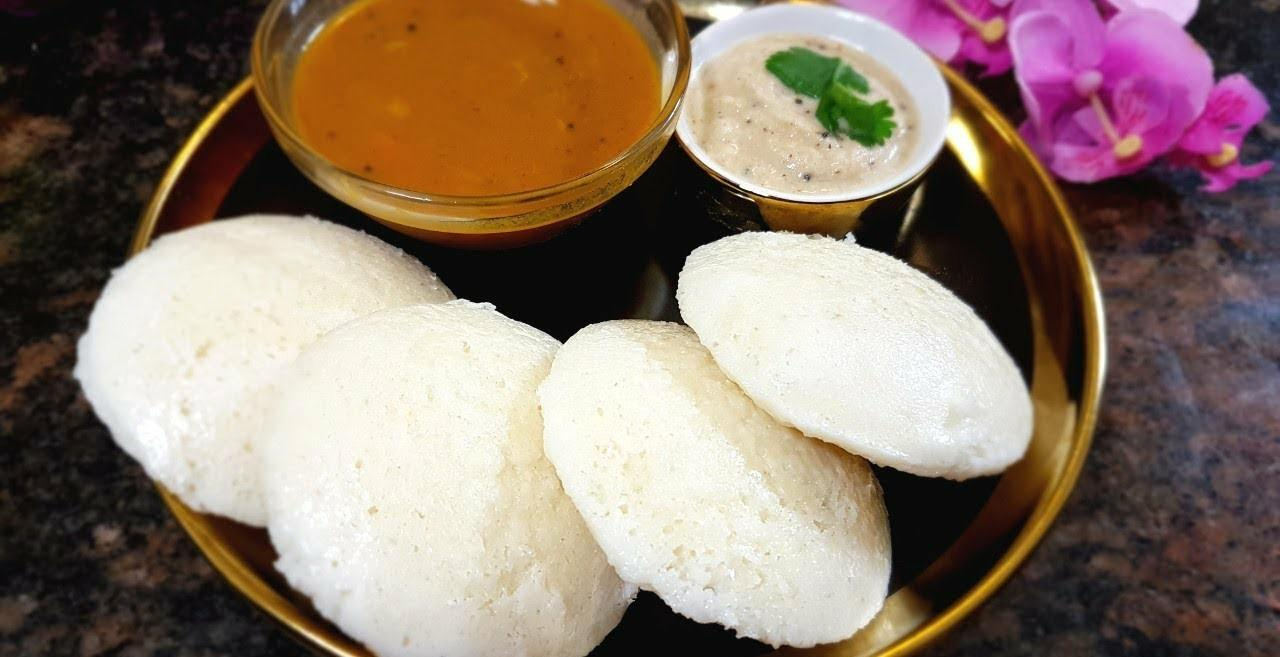CoconutChutney: (690, 34, 920, 198)
Idli: (270, 299, 626, 655), (75, 215, 446, 528), (541, 320, 890, 644), (677, 230, 1035, 482)
